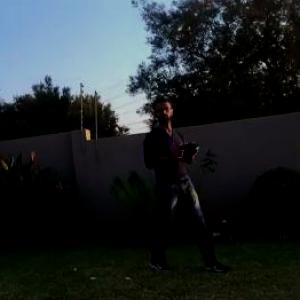follow: (141, 89, 237, 275)
